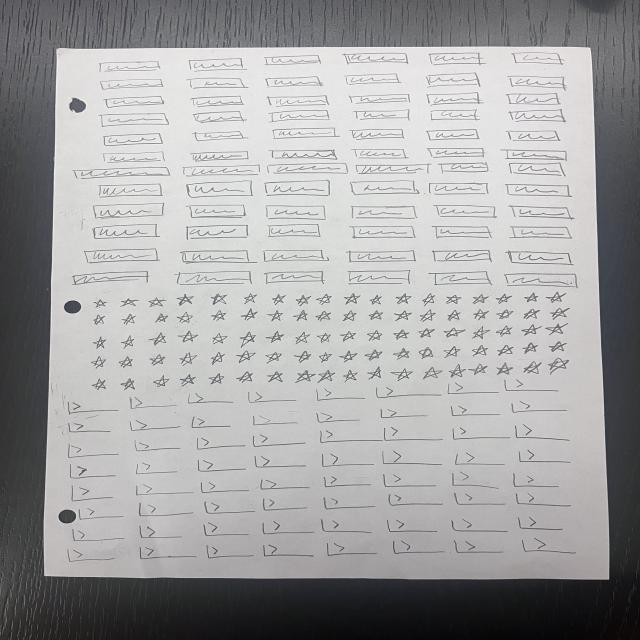Button: (546, 357, 576, 376), (266, 368, 291, 385), (317, 369, 340, 387), (520, 339, 541, 358), (545, 322, 571, 337), (232, 370, 256, 386), (341, 288, 362, 306), (518, 323, 545, 337), (206, 292, 231, 307), (237, 330, 257, 348), (444, 363, 468, 378), (548, 307, 573, 321), (289, 330, 313, 344), (88, 376, 109, 392), (418, 326, 440, 341), (521, 360, 543, 375), (264, 332, 287, 346), (318, 351, 338, 367), (238, 307, 259, 322), (391, 328, 415, 341), (90, 353, 106, 372), (470, 362, 489, 378), (314, 292, 334, 307), (292, 351, 312, 366), (548, 339, 568, 354), (418, 309, 439, 323), (422, 367, 443, 381), (208, 351, 226, 367), (146, 353, 168, 366), (392, 367, 414, 380), (148, 295, 168, 309), (471, 308, 491, 322), (392, 308, 412, 322), (265, 308, 285, 322), (340, 330, 360, 344), (362, 348, 382, 362), (206, 372, 226, 386), (151, 375, 171, 389), (467, 345, 490, 357), (119, 295, 140, 308), (392, 293, 413, 306), (521, 307, 542, 320), (394, 346, 411, 362), (293, 308, 311, 323), (495, 362, 513, 377), (366, 366, 384, 381), (179, 330, 198, 344), (118, 355, 137, 369), (178, 353, 197, 367), (297, 370, 316, 384), (520, 292, 542, 304), (117, 313, 139, 325), (491, 325, 515, 336), (496, 345, 518, 357), (472, 325, 492, 338), (90, 336, 110, 349), (340, 349, 356, 365), (240, 292, 263, 303), (176, 293, 194, 307), (496, 308, 514, 322), (365, 310, 386, 322), (445, 327, 466, 339), (211, 332, 229, 346), (118, 334, 136, 348), (340, 370, 361, 382), (367, 295, 386, 308), (148, 331, 167, 344), (467, 293, 489, 304), (314, 311, 334, 323), (420, 292, 437, 306), (265, 350, 282, 364), (367, 330, 386, 342), (92, 297, 109, 310), (343, 310, 360, 323), (91, 314, 108, 327), (237, 351, 254, 364), (546, 292, 566, 303), (446, 345, 460, 360), (270, 294, 286, 307), (495, 292, 511, 305), (121, 377, 137, 390), (442, 294, 459, 306), (178, 312, 195, 324), (208, 311, 228, 321), (296, 294, 311, 307), (418, 348, 434, 360), (152, 314, 171, 324), (179, 374, 194, 386), (446, 310, 462, 320), (318, 332, 332, 343)
Command: (373, 448, 442, 470), (516, 537, 584, 559), (510, 492, 582, 510), (317, 494, 378, 514), (515, 446, 573, 467), (506, 469, 564, 490), (449, 538, 509, 558), (448, 490, 510, 509), (512, 420, 566, 441), (447, 471, 501, 492), (445, 516, 508, 534), (449, 423, 510, 441), (376, 474, 437, 492), (136, 545, 199, 562), (316, 451, 375, 469), (315, 428, 381, 444), (184, 389, 234, 410), (381, 424, 446, 440), (514, 513, 566, 533), (380, 516, 436, 534), (59, 400, 118, 417), (255, 518, 314, 535), (372, 384, 443, 398), (68, 526, 126, 543), (445, 451, 510, 466), (65, 484, 119, 502), (257, 543, 314, 560), (383, 493, 443, 509), (320, 542, 380, 558), (62, 443, 118, 460), (388, 538, 444, 555), (133, 502, 196, 517), (250, 456, 309, 472), (63, 464, 121, 480), (256, 496, 306, 514), (198, 479, 254, 495), (318, 517, 374, 533), (250, 411, 302, 428), (500, 379, 562, 393), (502, 401, 574, 413), (444, 402, 505, 416), (64, 548, 120, 563), (242, 389, 294, 405), (319, 474, 371, 490), (202, 500, 257, 515), (126, 394, 174, 411), (198, 522, 249, 538), (124, 418, 182, 432), (311, 387, 365, 402), (196, 457, 249, 472), (61, 420, 117, 434), (134, 525, 190, 539), (203, 543, 255, 558), (77, 507, 132, 521), (248, 433, 307, 446), (447, 382, 498, 397), (259, 476, 310, 491), (135, 484, 198, 496), (185, 416, 242, 429), (133, 460, 179, 476), (192, 437, 252, 449), (132, 439, 184, 452), (314, 411, 370, 423), (376, 408, 434, 419)
Text: (506, 200, 578, 224), (173, 268, 254, 288), (343, 203, 420, 224), (183, 72, 250, 95), (176, 180, 253, 200), (68, 270, 156, 287), (337, 51, 418, 69), (500, 272, 581, 290), (260, 178, 332, 198), (504, 250, 578, 269), (92, 202, 170, 220), (505, 224, 578, 243), (340, 268, 415, 286), (96, 131, 175, 148), (186, 202, 253, 222), (422, 247, 492, 266), (66, 168, 176, 180), (428, 223, 494, 243), (500, 74, 572, 92), (504, 51, 572, 70), (261, 202, 329, 221), (96, 112, 176, 128), (86, 222, 157, 240), (260, 73, 330, 91), (344, 181, 418, 198), (499, 160, 568, 178), (95, 58, 166, 75), (262, 268, 329, 286), (429, 270, 496, 288), (341, 250, 415, 266), (79, 248, 163, 262), (431, 203, 500, 220), (88, 183, 166, 198), (343, 90, 416, 106), (500, 148, 573, 164), (347, 225, 419, 241), (504, 108, 570, 125), (426, 49, 482, 69), (498, 182, 578, 196), (419, 70, 481, 88), (266, 126, 344, 140), (180, 164, 264, 177), (267, 162, 351, 175), (186, 224, 250, 241), (422, 144, 489, 160), (425, 180, 488, 197), (261, 93, 332, 108), (355, 162, 431, 176), (350, 108, 416, 124), (261, 223, 323, 240), (264, 109, 334, 124), (185, 58, 250, 74), (499, 129, 564, 145), (96, 78, 170, 92), (260, 52, 324, 68), (425, 108, 485, 125), (256, 249, 333, 262), (181, 94, 251, 108), (338, 73, 402, 88), (267, 147, 340, 160), (97, 152, 173, 164), (177, 250, 252, 262), (185, 129, 249, 143), (420, 92, 483, 106), (188, 110, 250, 124), (346, 146, 410, 159), (99, 95, 167, 107), (347, 128, 408, 141), (420, 129, 481, 142), (501, 94, 566, 106), (436, 160, 490, 174), (182, 152, 252, 160)
